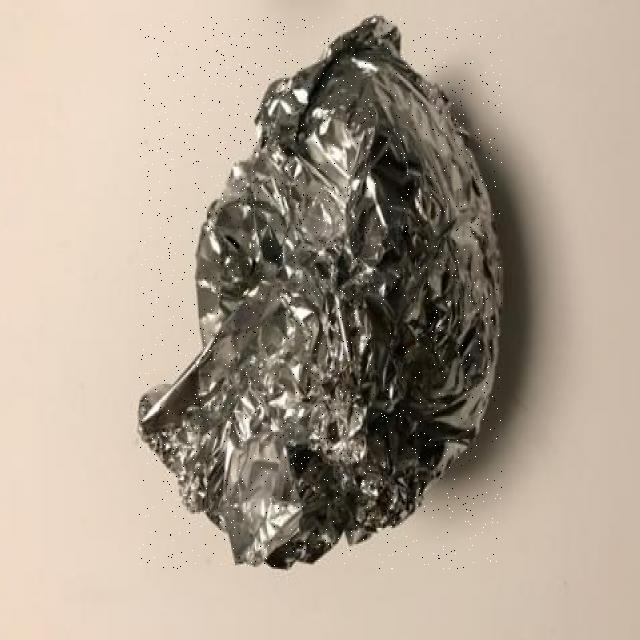metal: (140, 17, 502, 569)
